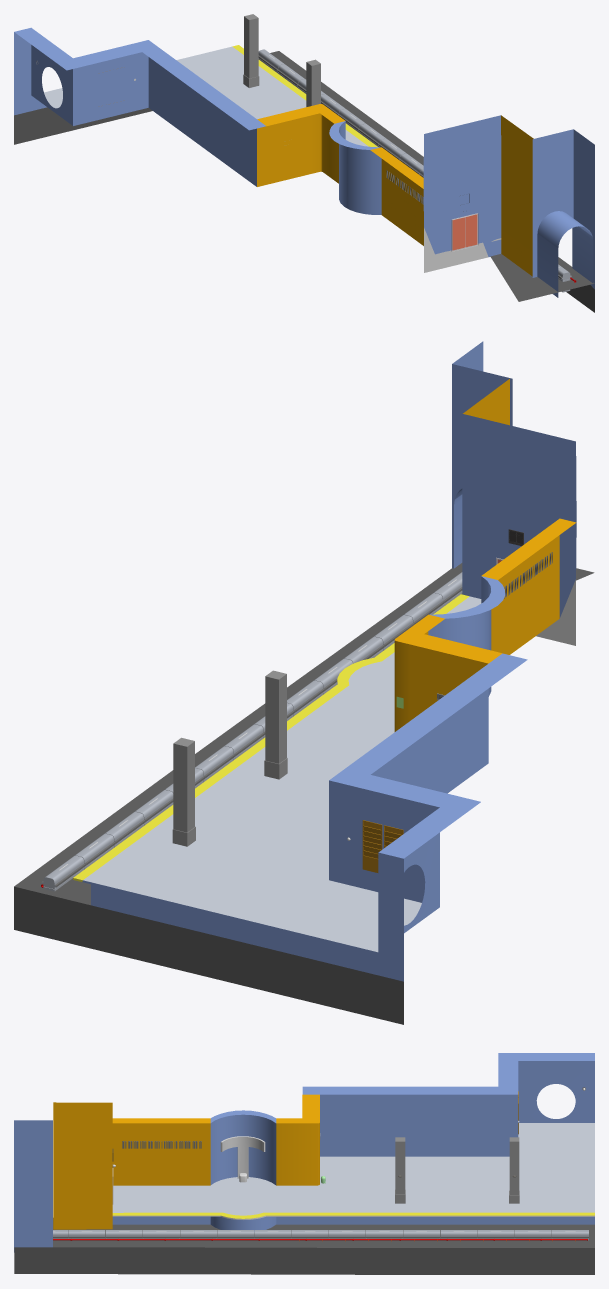
File: OBSnolockers.fbx
3 views of the same model, one above another, from view 1: azimuth 30°, elevation 25°; view 2: azimuth 150°, elevation 25°; view 3: azimuth 270°, elevation 25° (orthographic). The views are drawn at different scales.
Parts seen in each view (by area): view 1: Cube.002, Cube.006, Cube.013, Cube.009, Cube; view 2: Cube.002, Cube.006, Cube.013, Cube.009, punchcard holder 1.001; view 3: Cube.002, Cube.006, Cube.009, Cube.013, Cylinder, decoration, Text.001.
Boxes of the visible parts, <box> form: Cube.002: <box>14,27,594,312</box>; Cube.006: <box>258,49,571,292</box>; Cube.013: <box>243,14,320,106</box>; Cube.009: <box>31,45,72,125</box>; Cube: <box>451,213,478,251</box>; Cube.002: <box>14,341,594,1024</box>; Cube.006: <box>41,572,462,891</box>; Cube.013: <box>172,670,287,846</box>; Cube.009: <box>404,832,439,933</box>; punchcard holder 1.001: <box>362,820,382,872</box>; Cube.002: <box>14,1053,594,1274</box>; Cube.006: <box>53,1230,588,1240</box>; Cube.009: <box>518,1061,594,1122</box>; Cube.013: <box>395,1137,519,1203</box>; Cylinder: <box>53,1239,587,1240</box>; decoration: <box>220,1136,265,1178</box>; Text.001: <box>122,1141,201,1148</box>.
Size of the model in its own units: 1323 by 803 by 2746.
